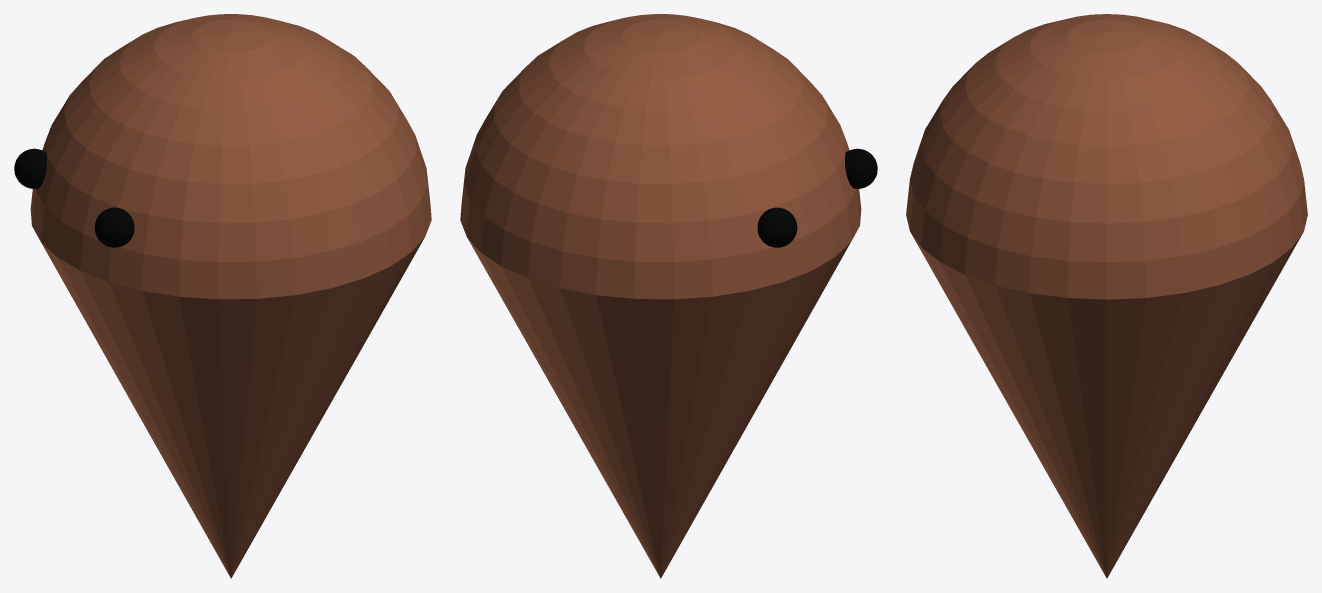
The model's file is brownEnemy.obj.
3 renders of one model, left to right at view 1: azimuth 30°, elevation 25°; view 2: azimuth 150°, elevation 25°; view 3: azimuth 270°, elevation 25°, orthographic.
Parts seen in each view (by area): view 1: 頭_球, 胴体, 眼球R, 眼球L; view 2: 頭_球, 胴体, 眼球L, 眼球R; view 3: 頭_球, 胴体.
Part boxes in pixels (x1,y1,x2,y2): 頭_球: [30, 14, 431, 299]; 胴体: [41, 237, 424, 578]; 眼球R: [94, 207, 134, 247]; 眼球L: [14, 148, 46, 188]; 頭_球: [460, 14, 861, 299]; 胴体: [467, 237, 850, 578]; 眼球L: [757, 207, 797, 247]; 眼球R: [845, 148, 877, 188]; 頭_球: [906, 14, 1307, 299]; 胴体: [910, 232, 1303, 578].
Size of the model in its own units: 2 by 3 by 2.
Materials: 1 (1 with a texture image).
